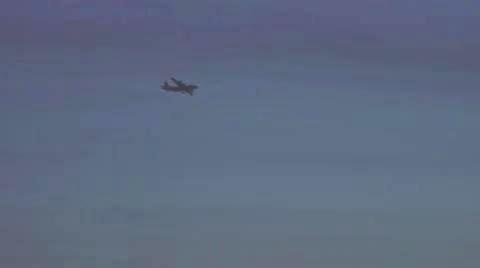Plane: (141, 70, 217, 104)
